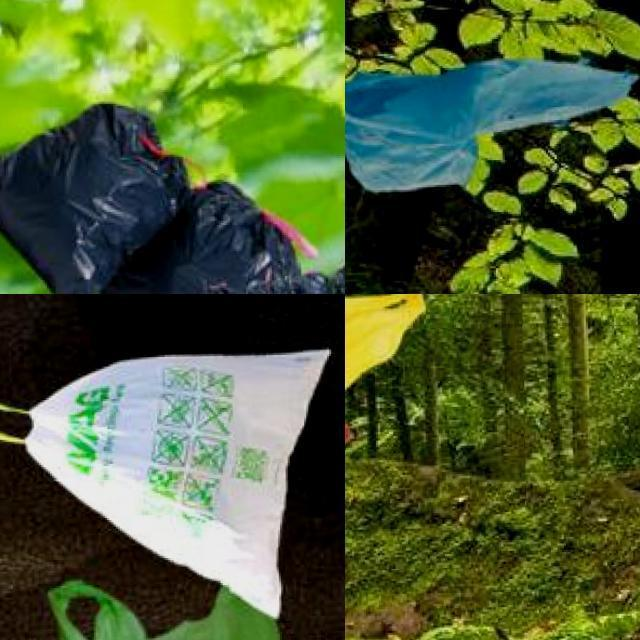waste: (33, 337, 330, 616), (345, 59, 631, 187), (0, 102, 185, 294), (106, 187, 304, 294), (50, 573, 298, 640), (245, 278, 295, 294), (293, 275, 332, 294), (332, 267, 345, 294)
